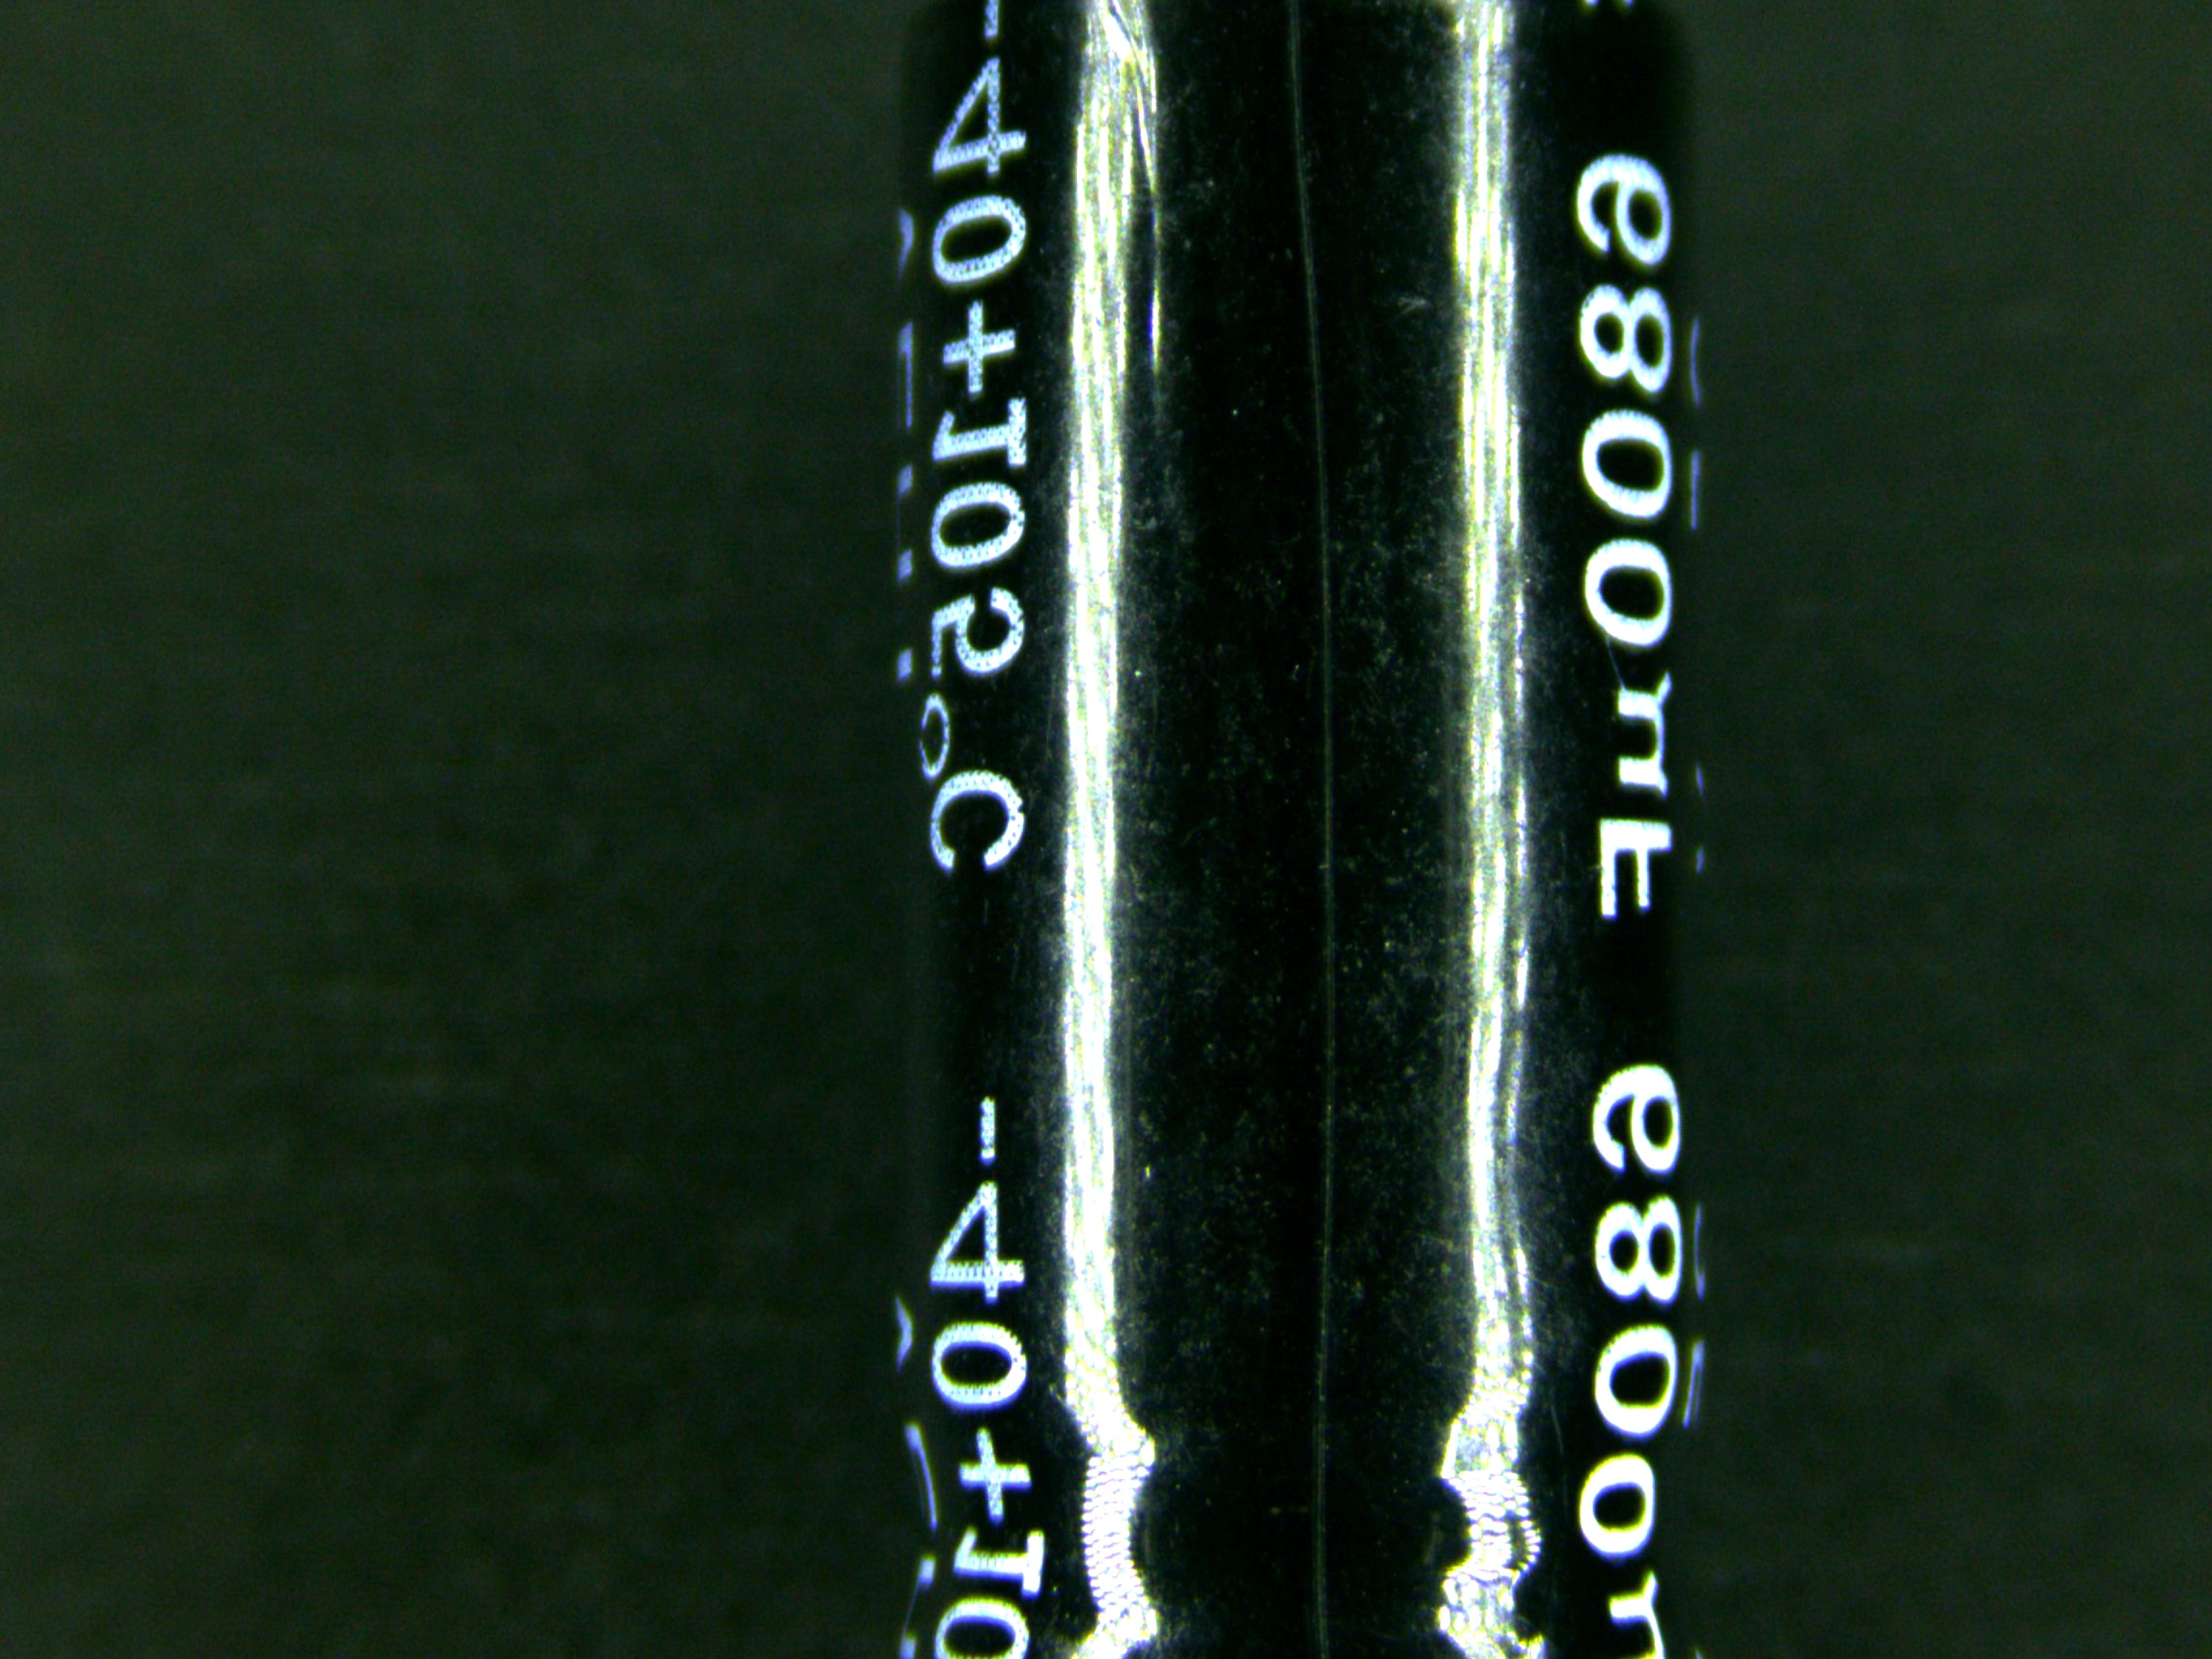c3: (881, 0, 1719, 1659)
